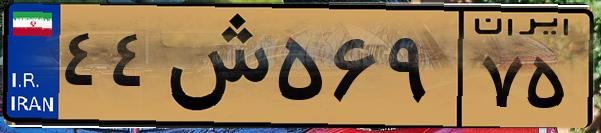4: (57, 26, 110, 100), (110, 28, 158, 98)
5: (270, 28, 330, 110), (525, 38, 570, 115)
6: (330, 28, 385, 110)
7: (475, 38, 525, 113)
9: (385, 28, 445, 110)
ش: (158, 12, 270, 120)
